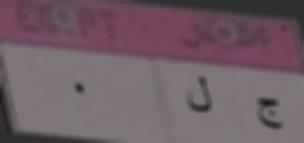0: (68, 72, 88, 106)
jeem: (252, 88, 285, 134)
laam: (180, 71, 214, 117)
